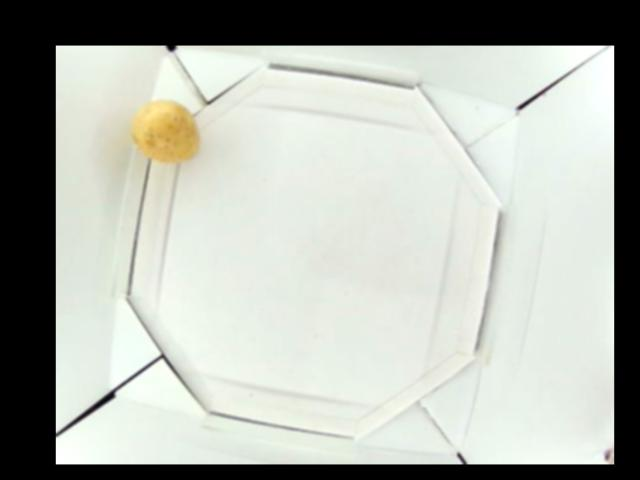Potato: (128, 97, 198, 161)
